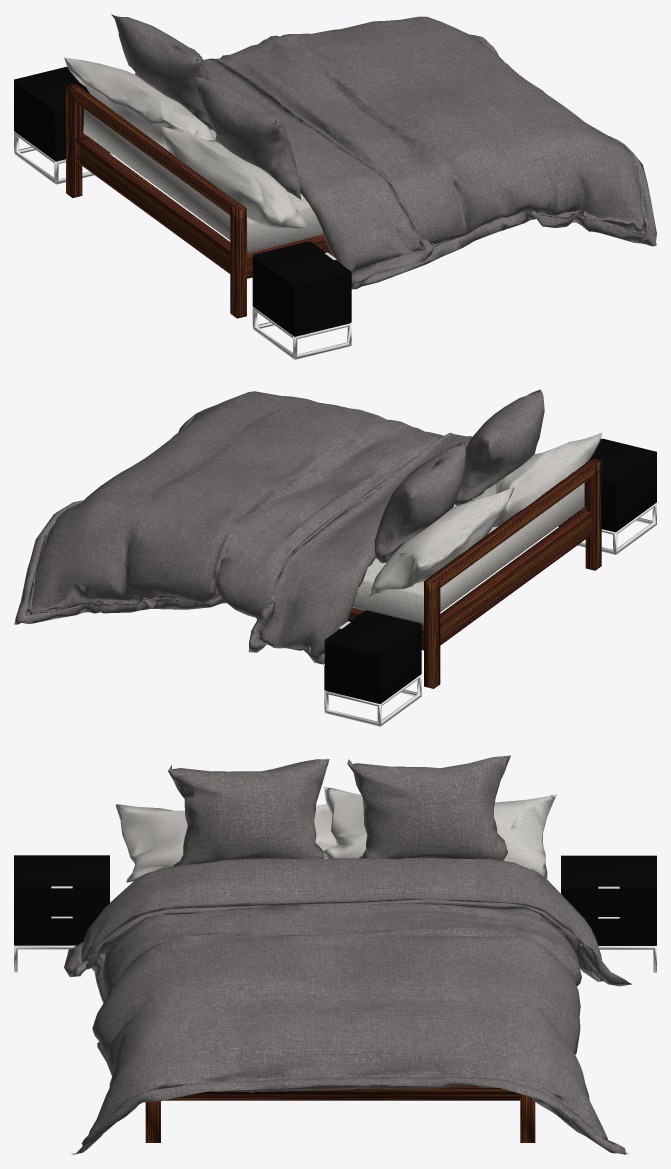
Rendered from grandechambre.glb.
3 views of the same model, one above another, from view 1: azimuth 30°, elevation 25°; view 2: azimuth 150°, elevation 25°; view 3: azimuth 270°, elevation 25° (orthographic). The views are drawn at different scales.
Visible parts, largest first — view 1: Bedroom_Beds_Double-Duvet-Grand_01, Bedroom_Beds_Double-Duvet-Grand_01_Frame, Bedroom_Bedside-Cabinets_Two-Drawer_03.003, Bedroom_Bedside-Cabinets_Two-Drawer_03.002; view 2: Bedroom_Beds_Double-Duvet-Grand_01, Bedroom_Beds_Double-Duvet-Grand_01_Frame, Bedroom_Bedside-Cabinets_Two-Drawer_03.002, Bedroom_Bedside-Cabinets_Two-Drawer_03.003; view 3: Bedroom_Beds_Double-Duvet-Grand_01, Bedroom_Bedside-Cabinets_Two-Drawer_03.003, Bedroom_Bedside-Cabinets_Two-Drawer_03.002, Bedroom_Beds_Double-Duvet-Grand_01_Frame.
Boxes of the visible parts, <box> form: Bedroom_Beds_Double-Duvet-Grand_01: <box>64,14,656,289</box>; Bedroom_Beds_Double-Duvet-Grand_01_Frame: <box>66,83,590,318</box>; Bedroom_Bedside-Cabinets_Two-Drawer_03.003: <box>252,241,351,359</box>; Bedroom_Bedside-Cabinets_Two-Drawer_03.002: <box>14,66,112,184</box>; Bedroom_Beds_Double-Duvet-Grand_01: <box>14,389,602,664</box>; Bedroom_Beds_Double-Duvet-Grand_01_Frame: <box>348,458,601,688</box>; Bedroom_Bedside-Cabinets_Two-Drawer_03.002: <box>324,610,421,726</box>; Bedroom_Bedside-Cabinets_Two-Drawer_03.003: <box>577,438,656,554</box>; Bedroom_Beds_Double-Duvet-Grand_01: <box>64,755,631,1154</box>; Bedroom_Bedside-Cabinets_Two-Drawer_03.003: <box>14,855,109,972</box>; Bedroom_Bedside-Cabinets_Two-Drawer_03.002: <box>561,855,656,972</box>; Bedroom_Beds_Double-Duvet-Grand_01_Frame: <box>145,1086,535,1142</box>.
Size of the model in its own units: 2.47 by 1.06 by 2.97.
Materials: 5 (3 with a texture image).
